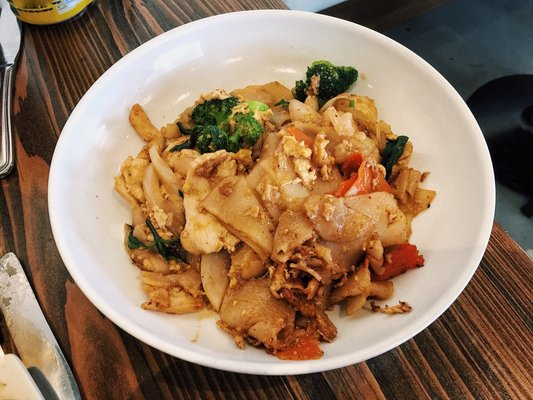curry: (190, 97, 267, 154), (305, 60, 359, 104)
pizza: (8, 0, 96, 25)
sandwich: (0, 251, 84, 399)
sushi: (31, 9, 533, 400)
